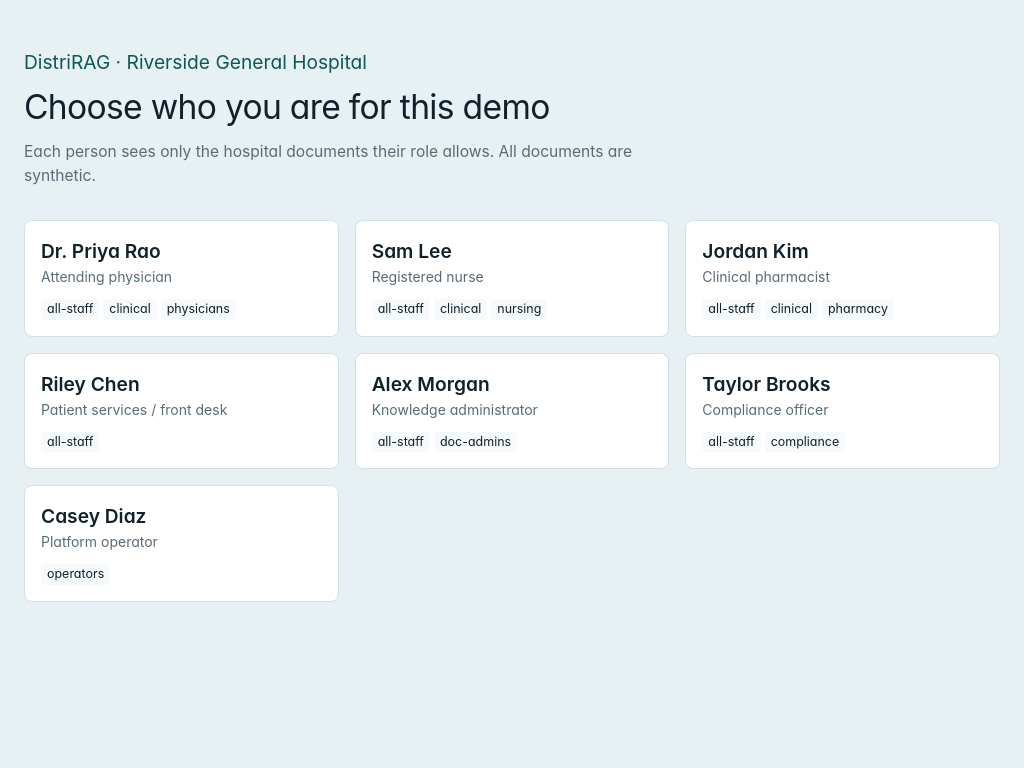
Scenario: signing in as Sam lands on search
Click the button with aria-label "Sign in as Sam Lee": (412, 251) [355,220,669,337]
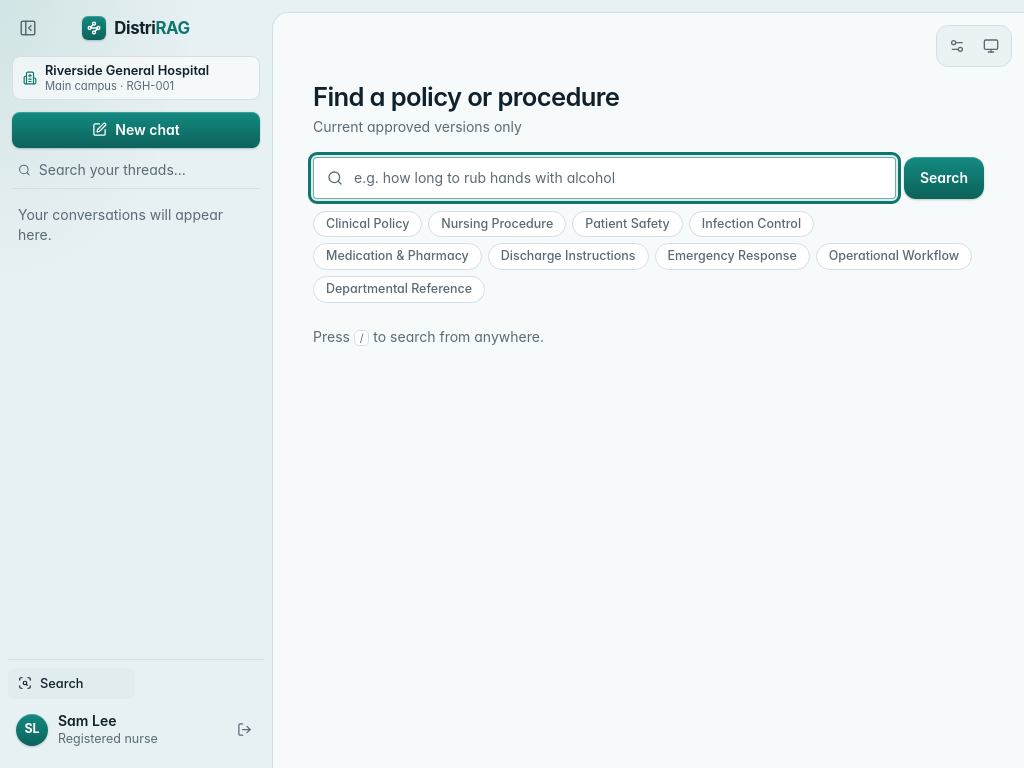
Result: the search field named "Search approved documents" is shown at [313,157,896,199]
